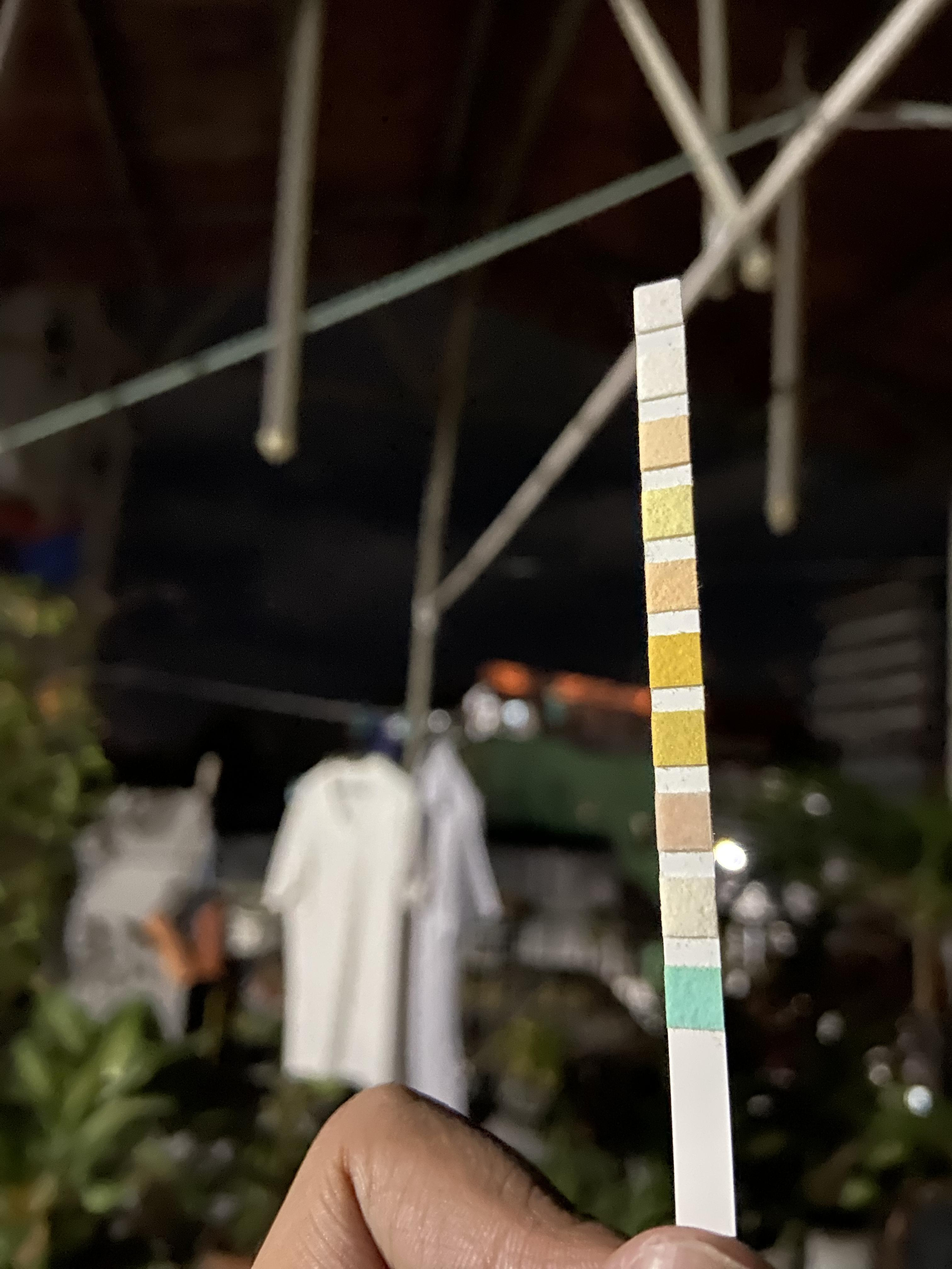Bilirubin: (664, 879, 714, 935)
Blood: (651, 636, 699, 684)
Glucose: (668, 970, 721, 1026)
Ketone: (658, 794, 709, 849)
Leukocytes: (638, 288, 678, 325)
Nitrite: (640, 357, 681, 393)
Protein: (644, 491, 691, 533)
SpGravity: (654, 713, 704, 763)
Urobilinogen: (643, 424, 687, 463)
pH: (649, 565, 694, 608)
strip: (632, 279, 736, 1221)
